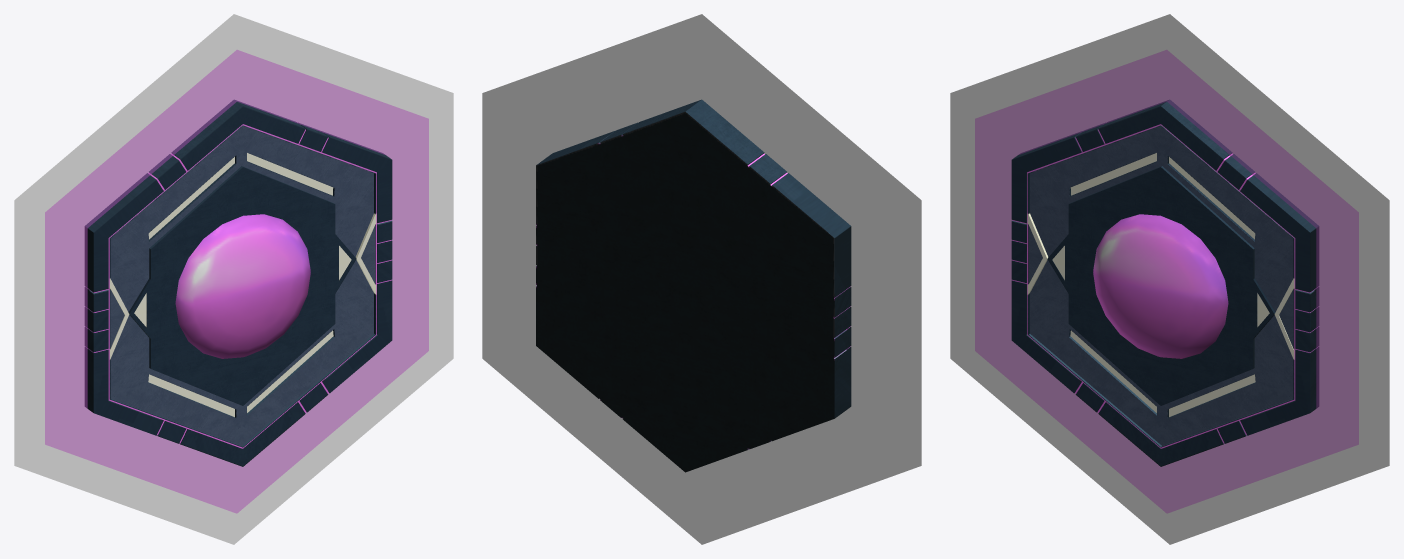
The model's file is TeleporterVIP01_Art.glb.
3 views of the same model, side by side, from view 1: azimuth 30°, elevation 25°; view 2: azimuth 150°, elevation 25°; view 3: azimuth 330°, elevation 25° (orthographic).
Visible parts, largest first — view 1: TeleporterVIP01_Art; view 2: TeleporterVIP01_Art; view 3: TeleporterVIP01_Art.
Part boxes in pixels (x1,y1,x2,y2): TeleporterVIP01_Art: (14,14,453,544); TeleporterVIP01_Art: (482,14,921,544); TeleporterVIP01_Art: (950,14,1389,544).
Size of the model in its own units: 1.73 by 2 by 0.2489.
3 materials, 3 textured.
